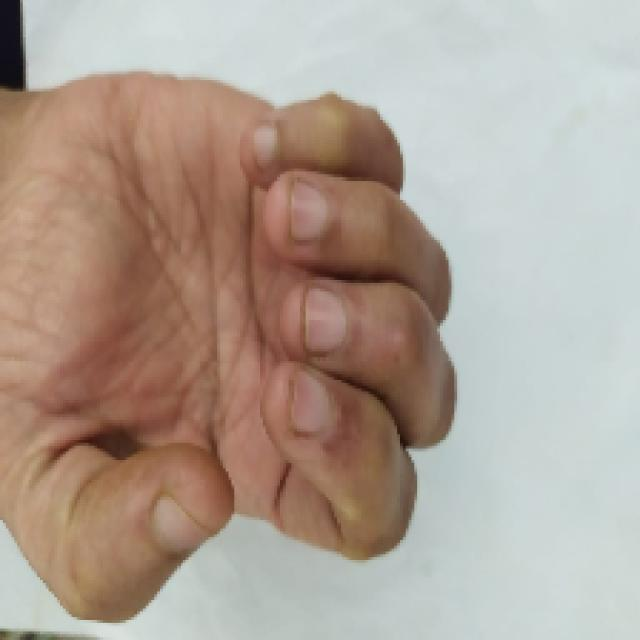Nail: (151, 495, 211, 556), (299, 285, 349, 358), (290, 370, 338, 434), (290, 180, 330, 242), (252, 125, 279, 164)
